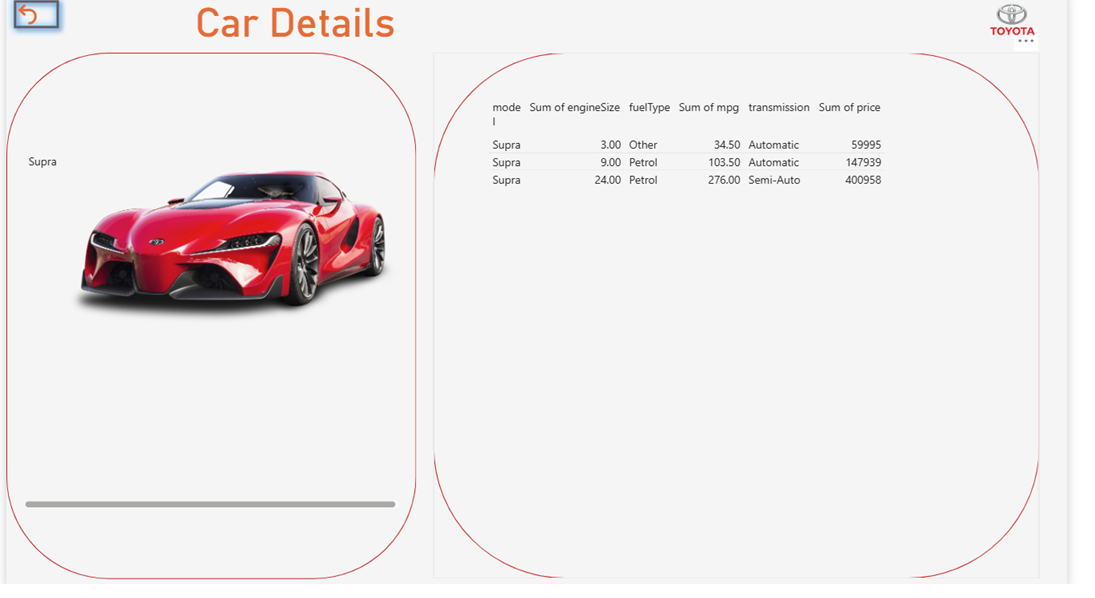

This screenshot's page, from the dashboard's own definition file:
{"tool":"powerbi","page":{"name":"car details","canvas":[1280,720],"ordinal":4},"visuals":[{"type":"shape","box":[0,72.4,494.6,635.8],"z":0,"group":"g2"},{"type":"group","id":"g1","title":"Group 1","box":[515.2,72.4,732.3,634.6],"z":0},{"type":"group","id":"g2","title":"Group 2","box":[0,72.4,494.6,635.8],"z":1000},{"type":"shape","box":[515.2,72.4,731.5,635.1],"z":1000,"group":"g1"},{"type":"tableEx","fields":{"Values":["toyota.model","Sum(toyota.engineSize)","toyota.fuelType","Sum(toyota.mpg)","toyota.transmission","Sum(toyota.price)"]},"box":[575.5,121.8,598.9,543.2],"z":1500,"group":"g1"},{"type":"tableEx","fields":{"Values":["toyota.model","Table.Image"]},"box":[15.7,142.4,463.3,485],"z":2001},{"type":"image","box":[1148.5,12.1,131.5,39.8],"z":2002},{"type":"textbox","title":"Car Details","box":[223.2,7.2,271.4,49.5],"z":2003},{"type":"actionButton","box":[0,0,72.4,51.9],"z":2004}]}

Visuals, with their boxes in screenshot pixels (x1, y1, x2, y2), scaled from the page's 1280x720 canvas onto the 1095x598 screenshot:
shape: x1=0 y1=60 x2=423 y2=588
"Group 1" group: x1=441 y1=60 x2=1067 y2=587
"Group 2" group: x1=0 y1=60 x2=423 y2=588
shape: x1=441 y1=60 x2=1067 y2=588
tableEx - toyota.model x Sum(toyota.engineSize): x1=492 y1=101 x2=1005 y2=552
tableEx - toyota.model x Table.Image: x1=13 y1=118 x2=410 y2=521
image: x1=983 y1=10 x2=1094 y2=43
"Car Details" textbox: x1=191 y1=6 x2=423 y2=47
actionButton: x1=0 y1=0 x2=62 y2=43
